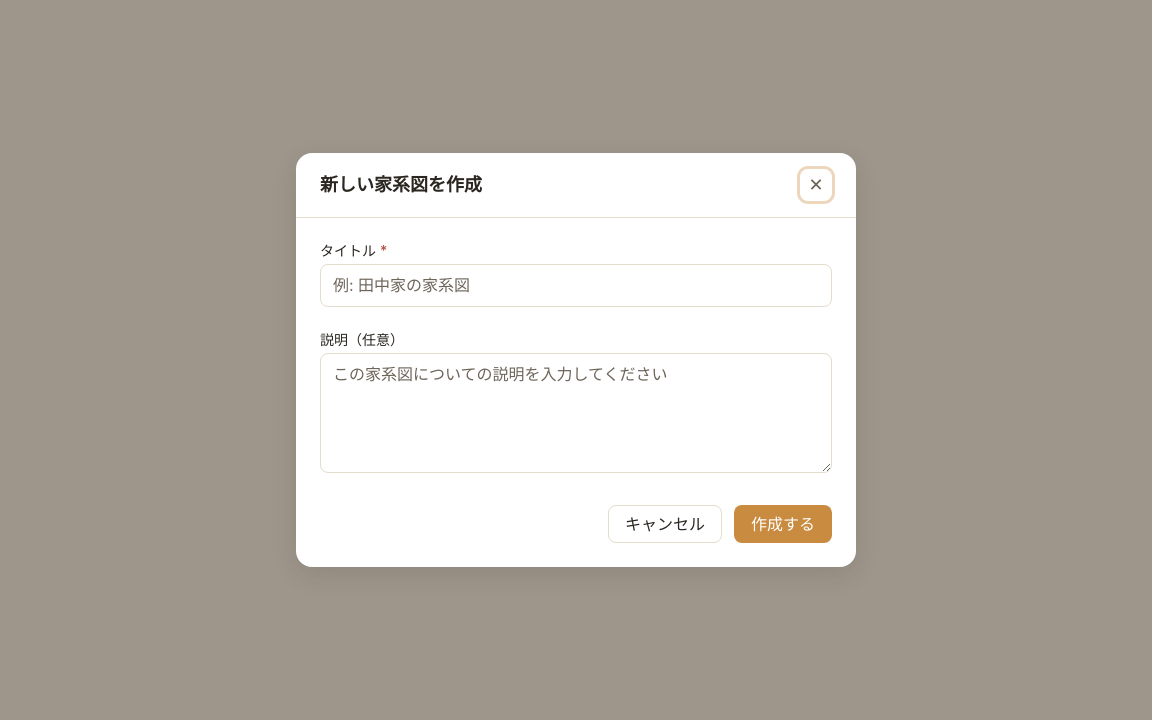
Test case: CreateTreeModal › エラーハンドリング › field="title" のエラーが返った場合、タイトルフィールドエラーが表示されること
Type "テストツリー" into the field labelled "タイトル*" at (576, 285), box [321,264,831,306]
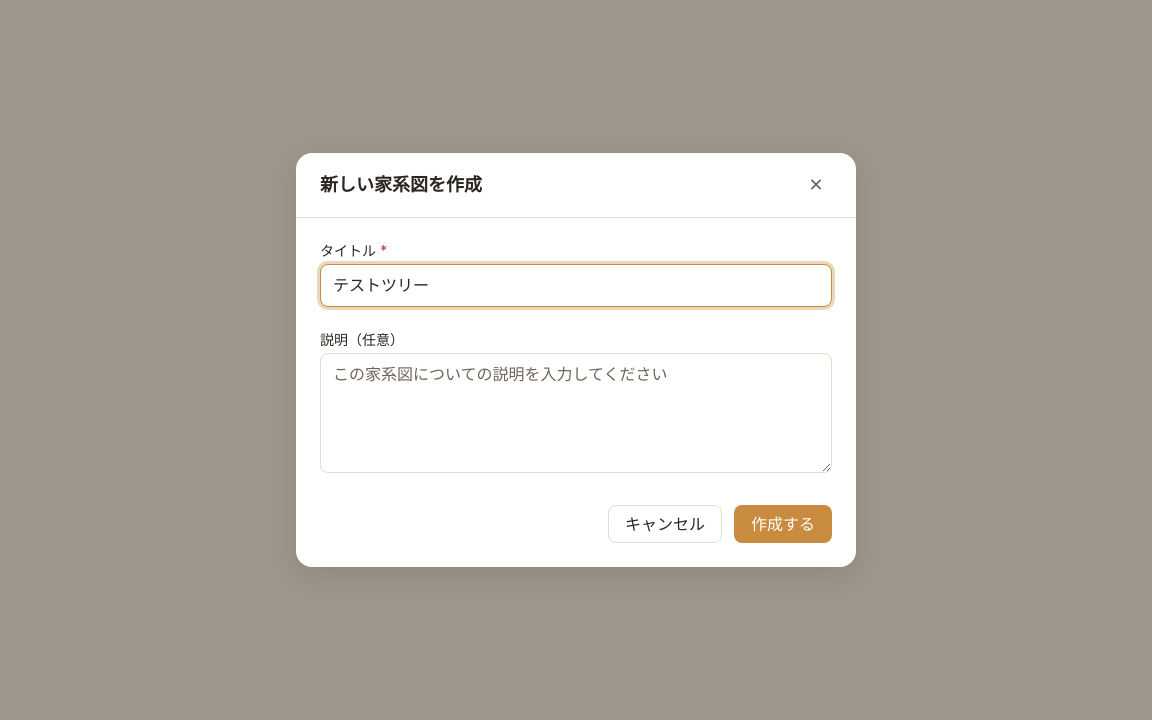
Click the button "作成する" at (783, 524), box [734,505,832,543]
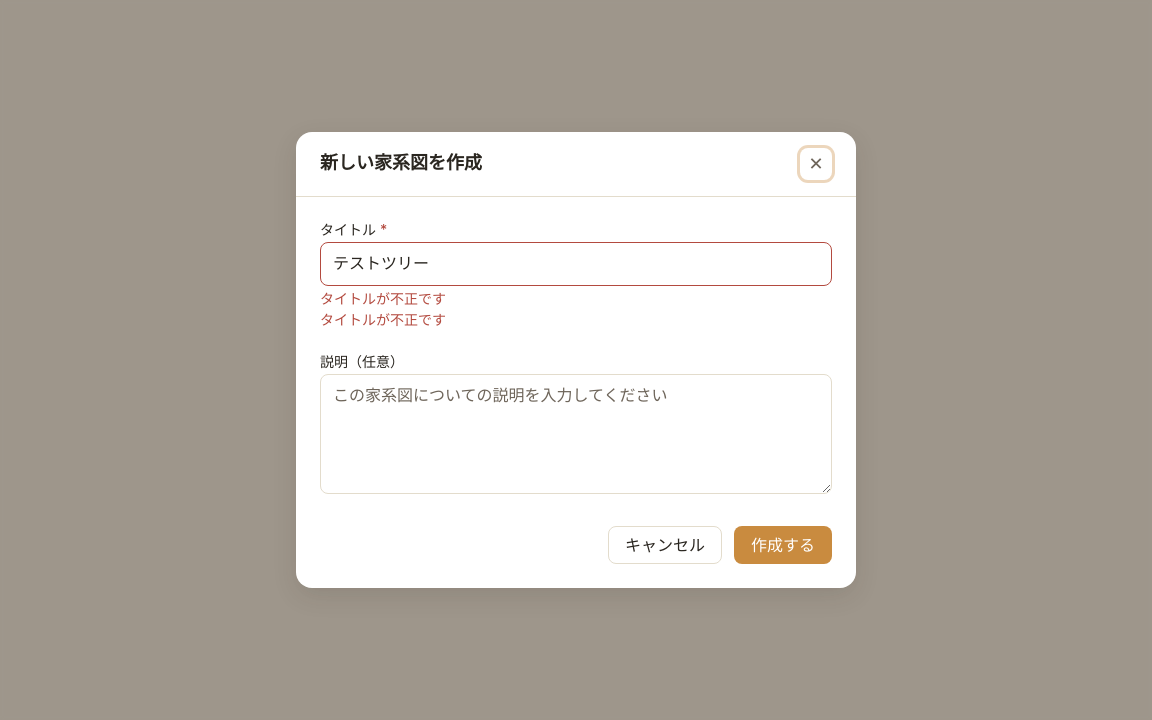
Result: the 1st text "タイトルが不正です" is shown at [320,290,446,307]
